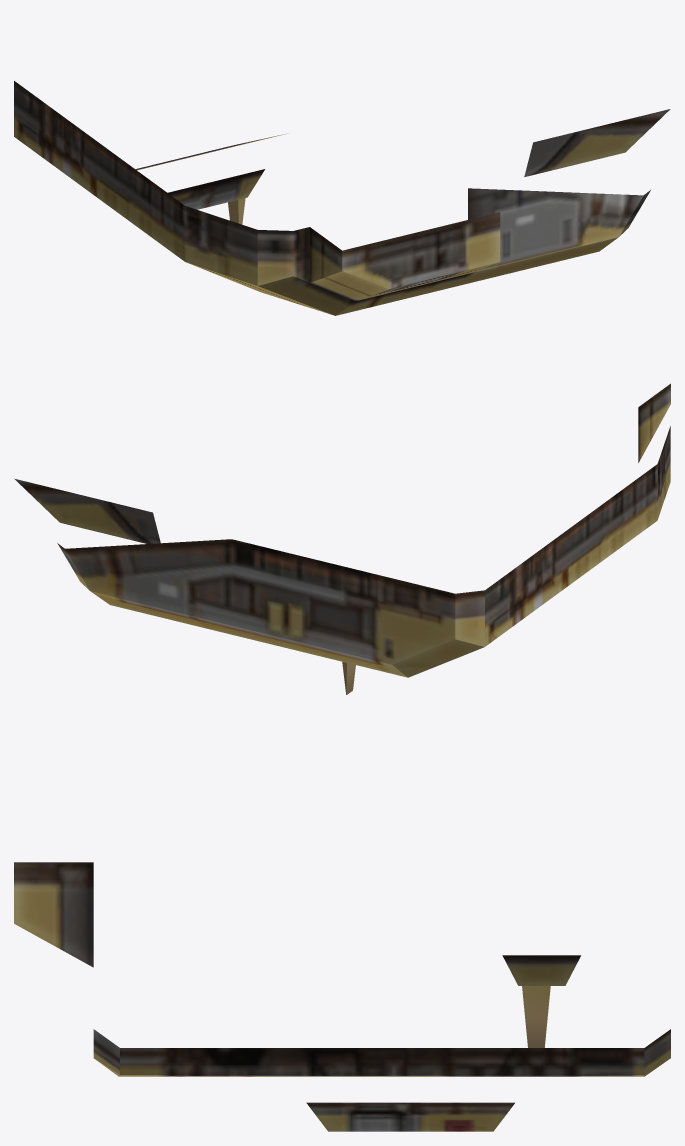
The model's file is hgn_flagship_battlecruiser_02_hangar_01_r.glb.
3 views of the same model, one above another, from view 1: azimuth 30°, elevation 25°; view 2: azimuth 150°, elevation 25°; view 3: azimuth 270°, elevation 25° (orthographic). The views are drawn at different scales.
Visible parts, largest first — view 1: hgn_flagship_battlecruiser_02_hangar_01_r; view 2: hgn_flagship_battlecruiser_02_hangar_01_r; view 3: hgn_flagship_battlecruiser_02_hangar_01_r.
Boxes of the visible parts, <box> form: hgn_flagship_battlecruiser_02_hangar_01_r: <box>14,81,670,315</box>; hgn_flagship_battlecruiser_02_hangar_01_r: <box>14,383,670,694</box>; hgn_flagship_battlecruiser_02_hangar_01_r: <box>14,862,670,1131</box>.
Bounding box in the file's own units: 1.11 × 0.3628 × 0.9898.
Materials: 1 (1 with a texture image).
